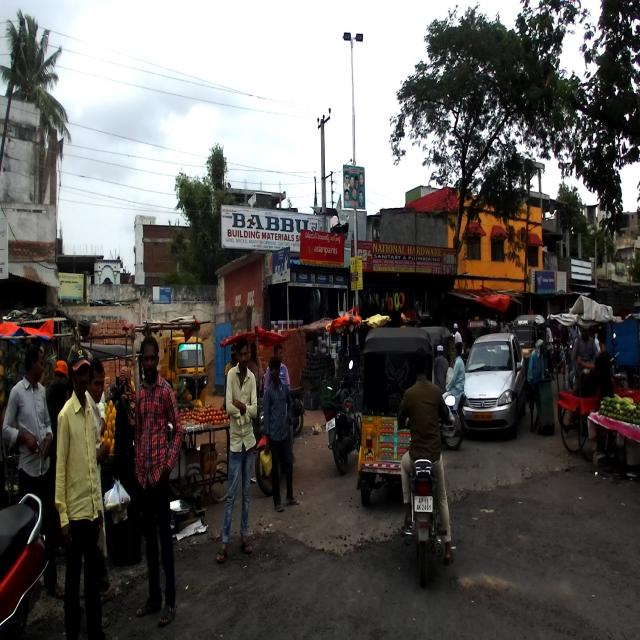Car_TATA: (463, 332, 526, 440)
autorickshaw: (355, 327, 435, 507), (66, 342, 144, 409), (157, 331, 208, 407)
motorcycle: (437, 392, 469, 450)
motorcycle_Hero: (400, 394, 456, 589)
motorcycle_Honda: (322, 359, 362, 475)
scooter: (0, 492, 49, 639)
